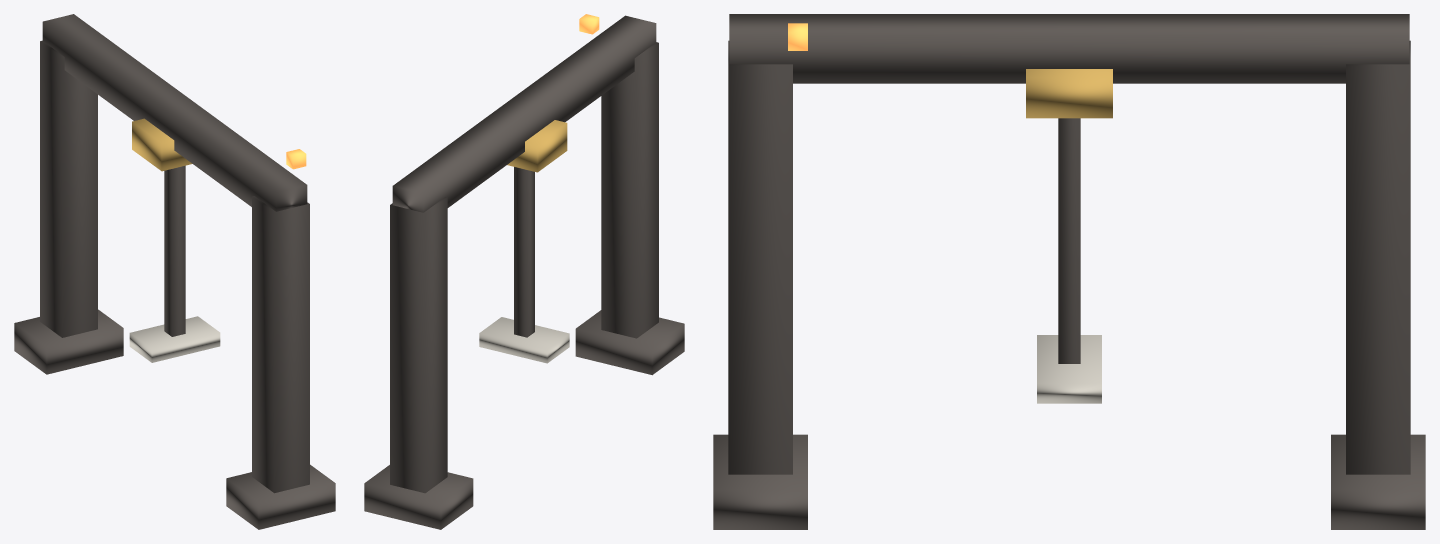
File: solar-yard-gantry-crane-lod2.glb
The picture shows the model from 3 angles, left to right: view 1: azimuth 30°, elevation 25°; view 2: azimuth 150°, elevation 25°; view 3: azimuth 270°, elevation 25°; orthographic projection. The views are drawn at different scales.
Visible parts, largest first — view 1: solar-yard-gantry-crane-leg-right, solar-yard-gantry-crane-leg-left, solar-yard-gantry-crane-beam, solar-yard-gantry-crane-foot-left, solar-yard-gantry-crane-foot-right, solar-yard-gantry-crane-hook, solar-yard-gantry-crane-loadbar, solar-yard-gantry-crane-trolley-carriage; view 2: solar-yard-gantry-crane-leg-left, solar-yard-gantry-crane-leg-right, solar-yard-gantry-crane-beam, solar-yard-gantry-crane-foot-right, solar-yard-gantry-crane-foot-left, solar-yard-gantry-crane-hook, solar-yard-gantry-crane-loadbar, solar-yard-gantry-crane-trolley-carriage; view 3: solar-yard-gantry-crane-beam, solar-yard-gantry-crane-leg-left, solar-yard-gantry-crane-leg-right, solar-yard-gantry-crane-foot-left, solar-yard-gantry-crane-foot-right, solar-yard-gantry-crane-hook, solar-yard-gantry-crane-trolley-carriage, solar-yard-gantry-crane-loadbar.
Part boxes in pixels (x1=…): solar-yard-gantry-crane-leg-right: x1=252, y1=196, x2=309, y2=493; solar-yard-gantry-crane-leg-left: x1=40, y1=40, x2=97, y2=337; solar-yard-gantry-crane-beam: x1=42, y1=14, x2=307, y2=211; solar-yard-gantry-crane-foot-left: x1=14, y1=309, x2=123, y2=374; solar-yard-gantry-crane-foot-right: x1=226, y1=464, x2=335, y2=529; solar-yard-gantry-crane-hook: x1=164, y1=165, x2=185, y2=336; solar-yard-gantry-crane-loadbar: x1=129, y1=316, x2=220, y2=362; solar-yard-gantry-crane-trolley-carriage: x1=132, y1=118, x2=192, y2=171; solar-yard-gantry-crane-leg-left: x1=390, y1=197, x2=447, y2=493; solar-yard-gantry-crane-leg-right: x1=601, y1=42, x2=658, y2=338; solar-yard-gantry-crane-beam: x1=392, y1=15, x2=656, y2=212; solar-yard-gantry-crane-foot-right: x1=575, y1=310, x2=684, y2=375; solar-yard-gantry-crane-foot-left: x1=364, y1=465, x2=473, y2=529; solar-yard-gantry-crane-hook: x1=514, y1=167, x2=534, y2=337; solar-yard-gantry-crane-loadbar: x1=479, y1=317, x2=569, y2=363; solar-yard-gantry-crane-trolley-carriage: x1=507, y1=120, x2=567, y2=172; solar-yard-gantry-crane-beam: x1=729, y1=14, x2=1409, y2=83; solar-yard-gantry-crane-leg-left: x1=1346, y1=40, x2=1410, y2=474; solar-yard-gantry-crane-leg-right: x1=728, y1=40, x2=792, y2=474; solar-yard-gantry-crane-foot-left: x1=1331, y1=434, x2=1425, y2=529; solar-yard-gantry-crane-foot-right: x1=713, y1=434, x2=807, y2=529; solar-yard-gantry-crane-hook: x1=1058, y1=118, x2=1080, y2=363; solar-yard-gantry-crane-trolley-carriage: x1=1026, y1=69, x2=1112, y2=118; solar-yard-gantry-crane-loadbar: x1=1037, y1=335, x2=1101, y2=403.
Bounding box in the file's own units: 1.04 × 4.38 × 5.72.
